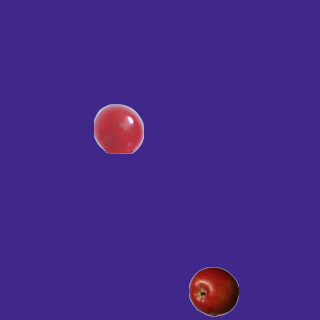Apple Braeburn: (188, 266, 238, 316)
Redcurrant: (93, 103, 143, 153)
